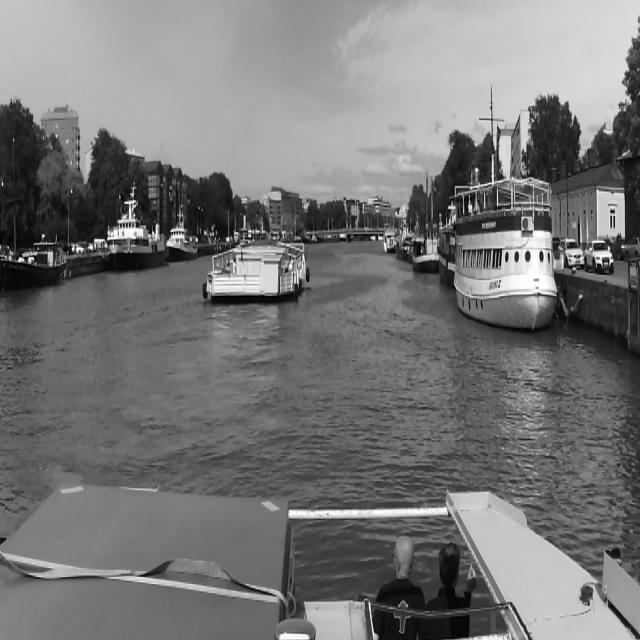ship: (451, 82, 561, 338), (200, 220, 312, 306), (104, 184, 168, 276), (211, 252, 291, 294), (165, 218, 199, 258), (410, 220, 434, 272)
